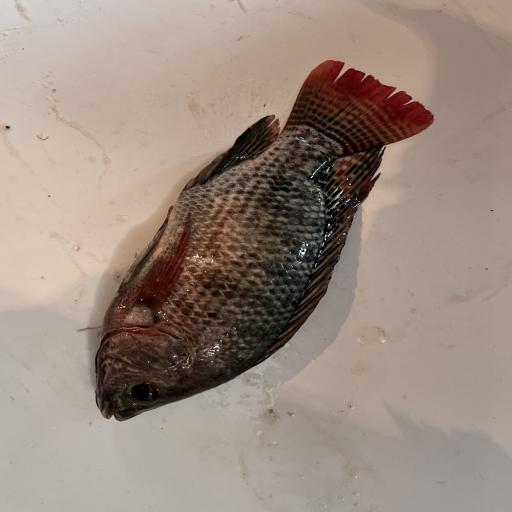Tilapia: (94, 60, 435, 422)
